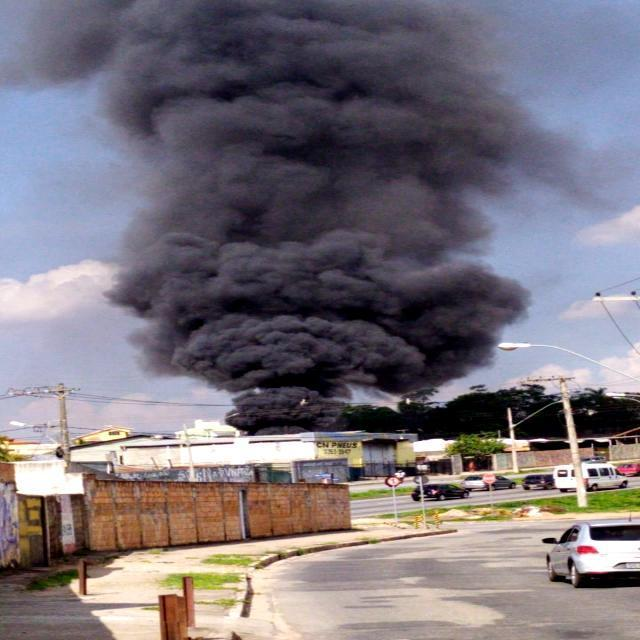Smoke: (78, 0, 590, 431)
